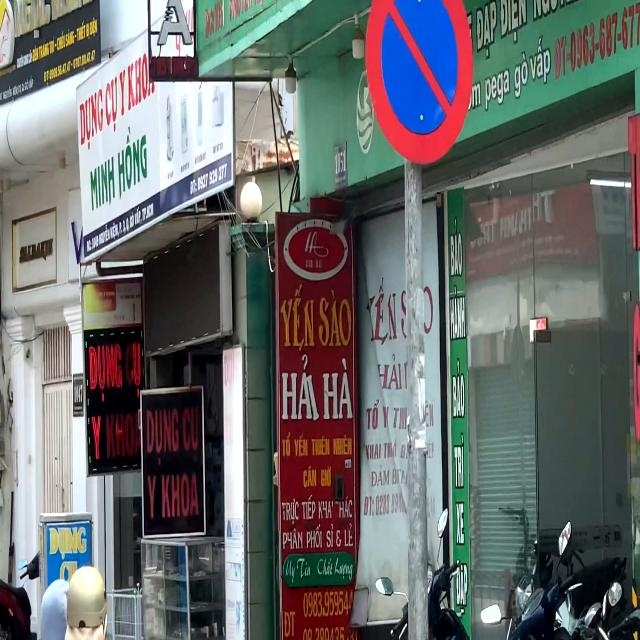bien_cam: (361, 0, 473, 162)
